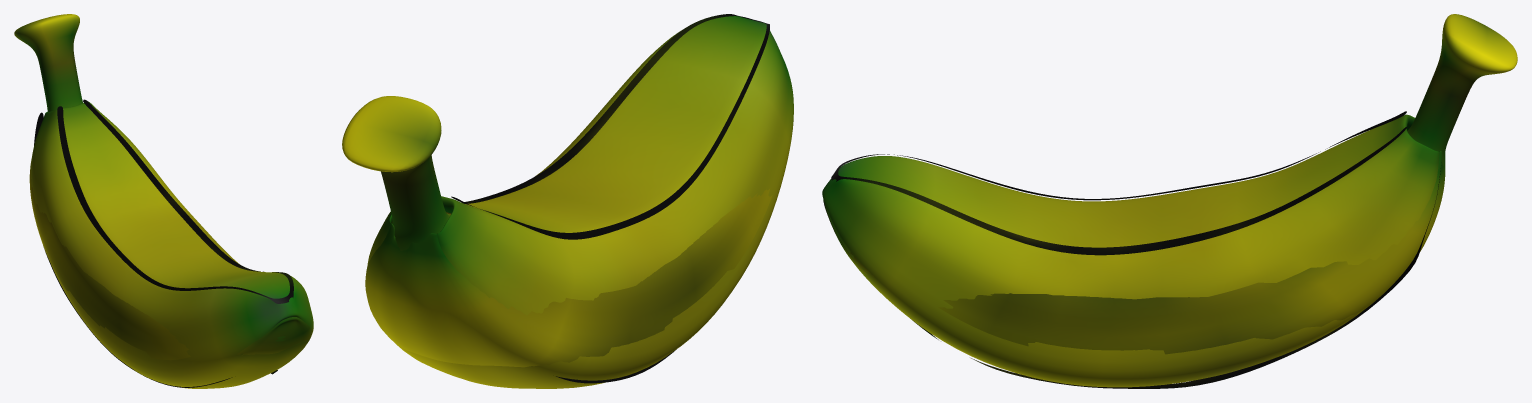
File: banana.fbx
The picture shows the model from 3 angles, left to right: view 1: azimuth 30°, elevation 25°; view 2: azimuth 150°, elevation 25°; view 3: azimuth 270°, elevation 25°; orthographic projection. The views are drawn at different scales.
Visible parts, largest first — view 1: Cube; view 2: Cube; view 3: Cube.
Part boxes in pixels (x1,y1,x2,y2): Cube: [14, 14, 313, 388]; Cube: [342, 14, 793, 388]; Cube: [822, 14, 1517, 388].
Bounding box in the file's own units: 364 × 699 × 1261.
